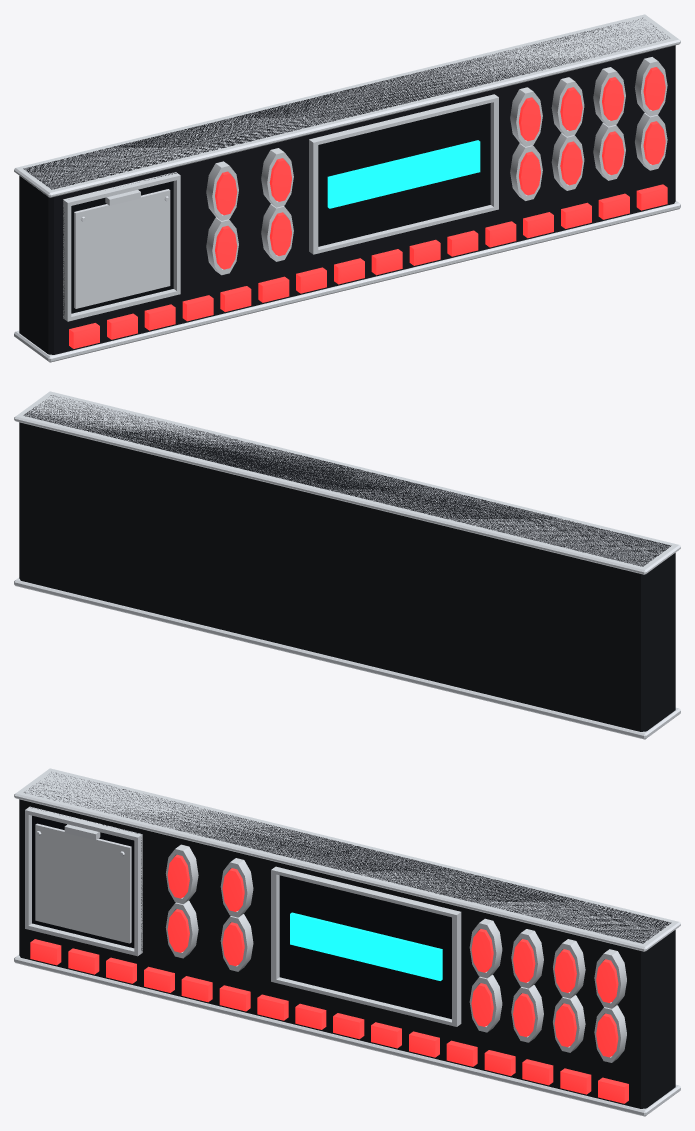
The model's file is rb_bullet.glb.
3 renders of one model, top to bottom at view 1: azimuth 30°, elevation 25°; view 2: azimuth 150°, elevation 25°; view 3: azimuth 330°, elevation 25°, orthographic.
Parts seen in each view (by area): view 1: rb_bullet_deco_body, rb_bullet_chrome, rb_bullet_lamp_tail, rb_bullet_deco_trim, rb_bullet_deco_plate, rb_bullet_deco_neon; view 2: rb_bullet_deco_body, rb_bullet_chrome; view 3: rb_bullet_deco_body, rb_bullet_chrome, rb_bullet_lamp_tail, rb_bullet_deco_trim, rb_bullet_deco_plate, rb_bullet_deco_neon.
Part boxes in pixels (x1=…): rb_bullet_deco_body: x1=19, y1=18, x2=675, y2=354; rb_bullet_chrome: x1=14, y1=14, x2=680, y2=362; rb_bullet_lamp_tail: x1=69, y1=67, x2=667, y2=348; rb_bullet_deco_trim: x1=63, y1=103, x2=490, y2=317; rb_bullet_deco_plate: x1=74, y1=189, x2=170, y2=308; rb_bullet_deco_neon: x1=327, y1=140, x2=480, y2=208; rb_bullet_deco_body: x1=19, y1=395, x2=675, y2=731; rb_bullet_chrome: x1=14, y1=391, x2=680, y2=739; rb_bullet_deco_body: x1=19, y1=772, x2=675, y2=1108; rb_bullet_chrome: x1=14, y1=768, x2=680, y2=1116; rb_bullet_lamp_tail: x1=30, y1=854, x2=628, y2=1103; rb_bullet_deco_trim: x1=30, y1=807, x2=451, y2=1019; rb_bullet_deco_plate: x1=35, y1=823, x2=131, y2=943; rb_bullet_deco_neon: x1=290, y1=912, x2=442, y2=980.
Bounding box in the file's own units: 2.42 × 0.62 × 0.2882.
